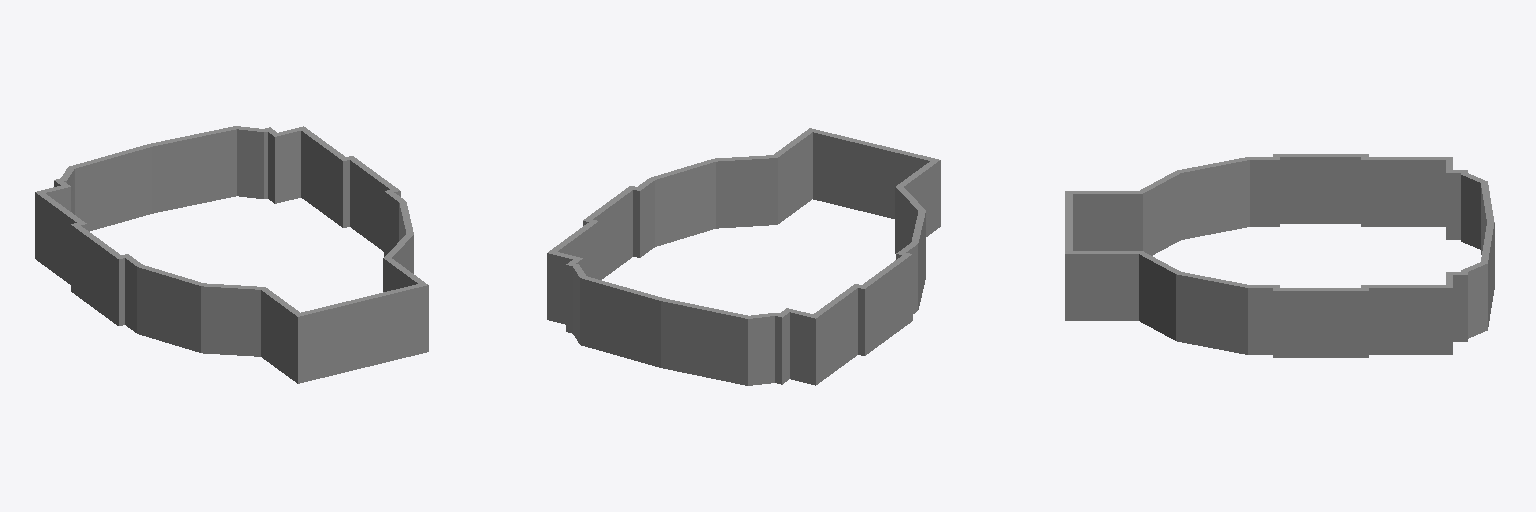
File: clearence.obj
3 views of the same model, side by side, from view 1: azimuth 30°, elevation 25°; view 2: azimuth 150°, elevation 25°; view 3: azimuth 270°, elevation 25° (orthographic).
Visible parts, largest first — view 1: Body1; view 2: Body1; view 3: Body1.
Part boxes in pixels (x1,y1,x2,y2): Body1: (35,126,428,383); Body1: (547,128,940,385); Body1: (1065,154,1494,357).
Bounding box in the file's own units: 0.0132 × 0.003 × 0.0174.